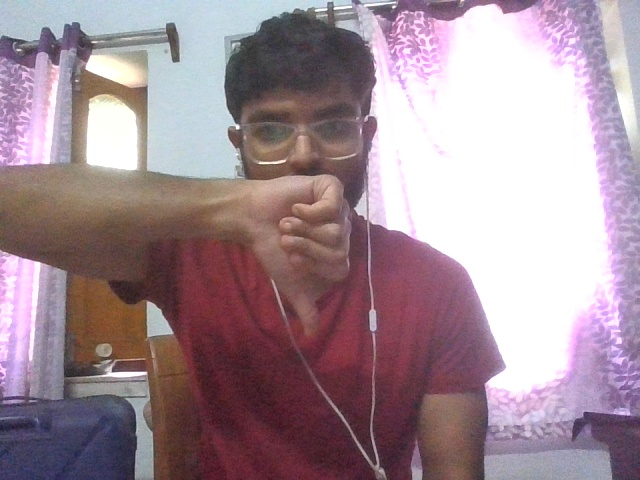ThumbsDown: (257, 174, 351, 337)
